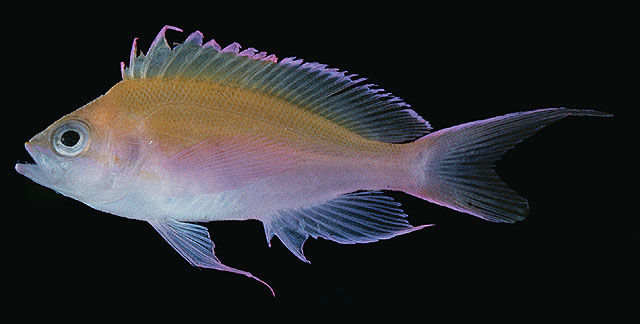fish: (15, 24, 614, 298)
